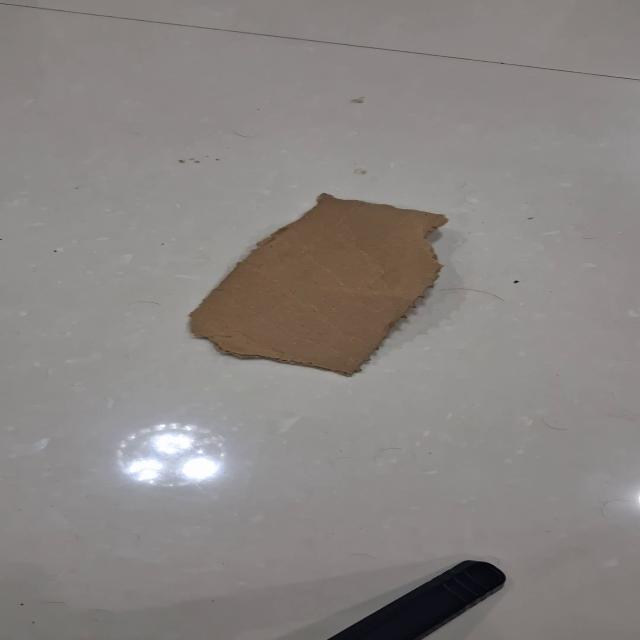paper: (187, 192, 449, 377)
